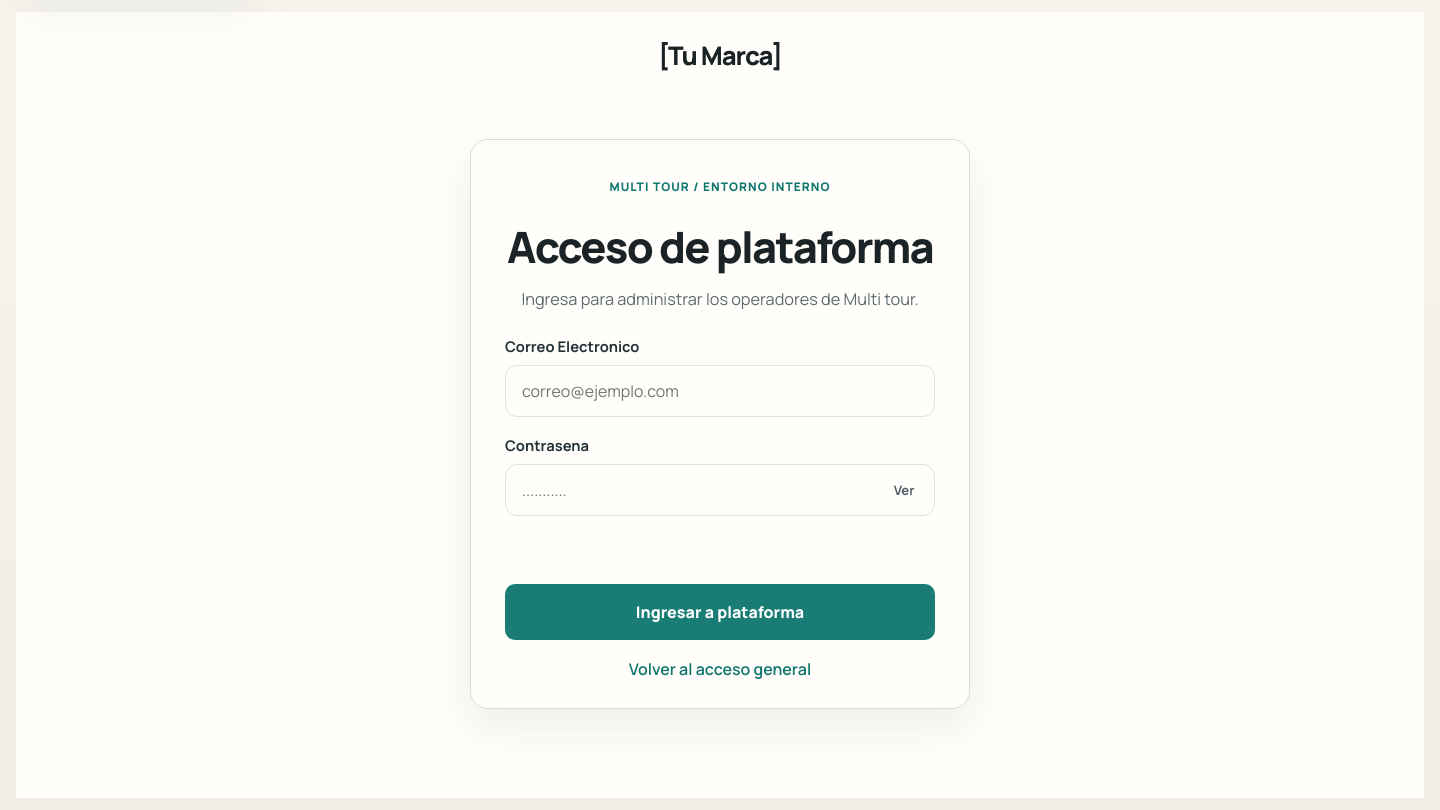
Test: AdminLoginComponent (acceso exclusivo de PLATFORM_ADMINISTRATOR) › login valido pero con rol distinto de PLATFORM_ADMINISTRATOR: NO guarda sesion ni navega
The width and height of the screenshot is (1440, 810).
Type "operador@example.com" into the field named "email".
click(720, 391); type("operador@example.com")  # box [505, 365, 935, 417]
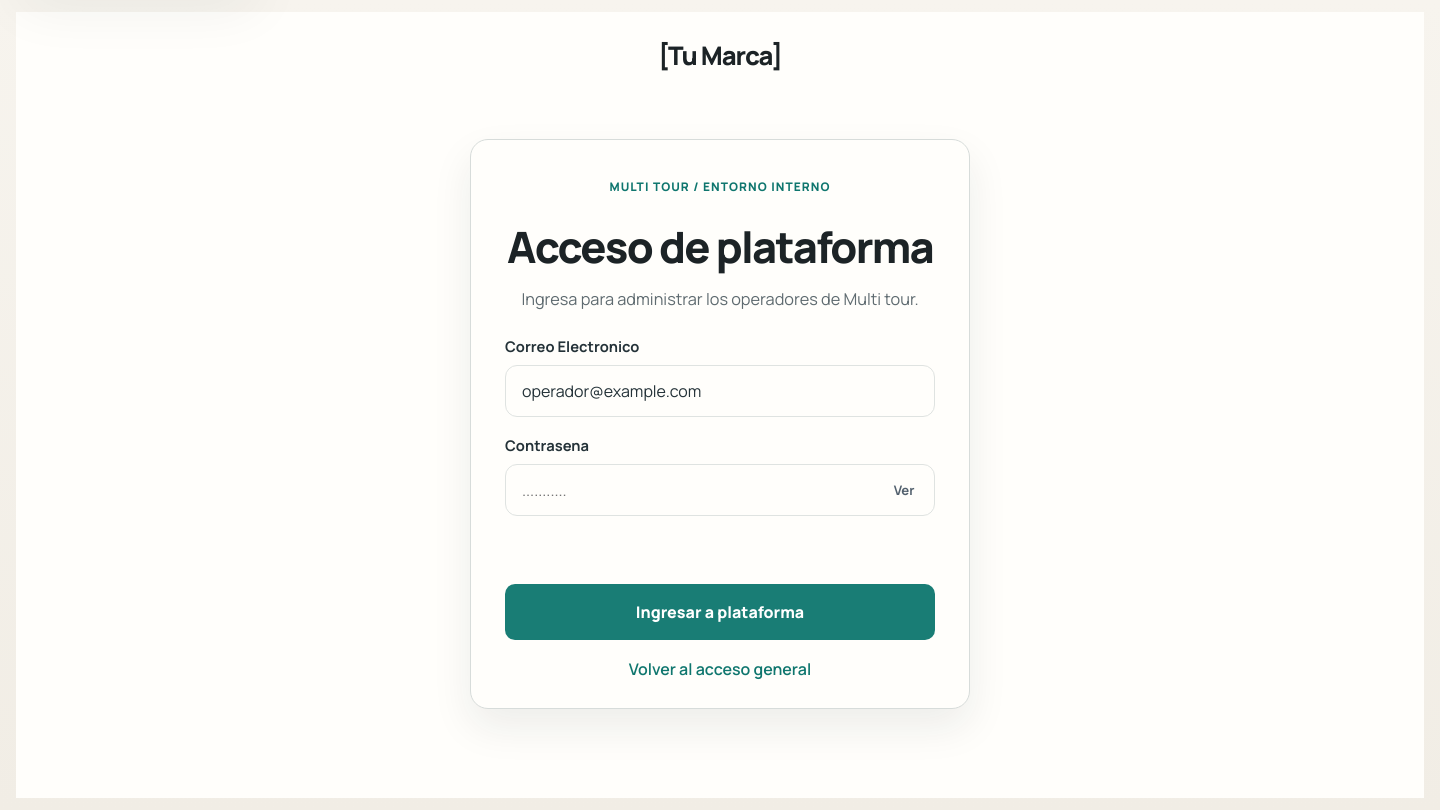
Type "Multitour#2026" into the password field named "password".
click(720, 490); type("Multitour#2026")  # box [505, 464, 935, 516]
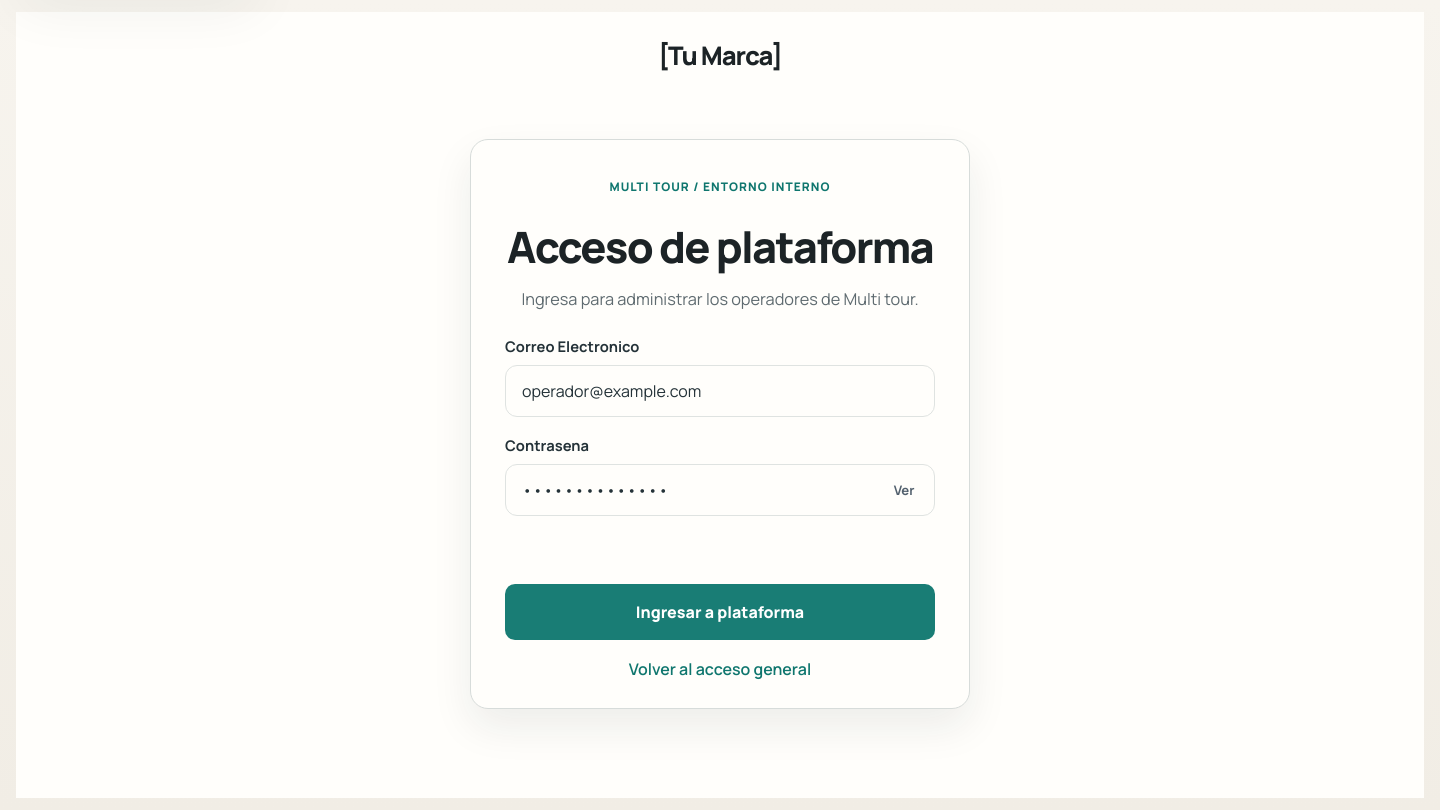
Submit the form, box [505, 336, 935, 640]
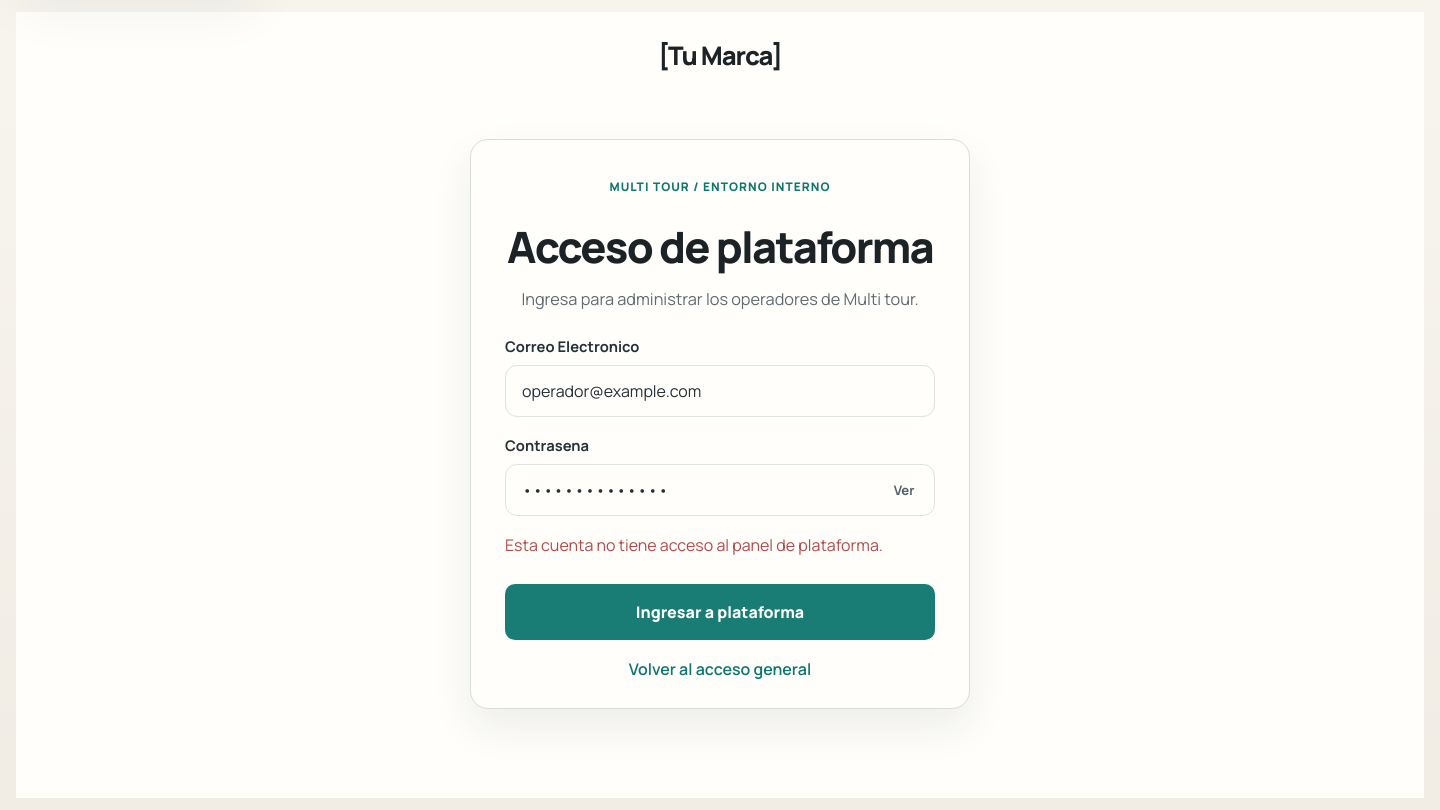
Expected: the text "Esta cuenta no tiene acceso al panel de plataforma." is shown, [505, 534, 935, 558]
